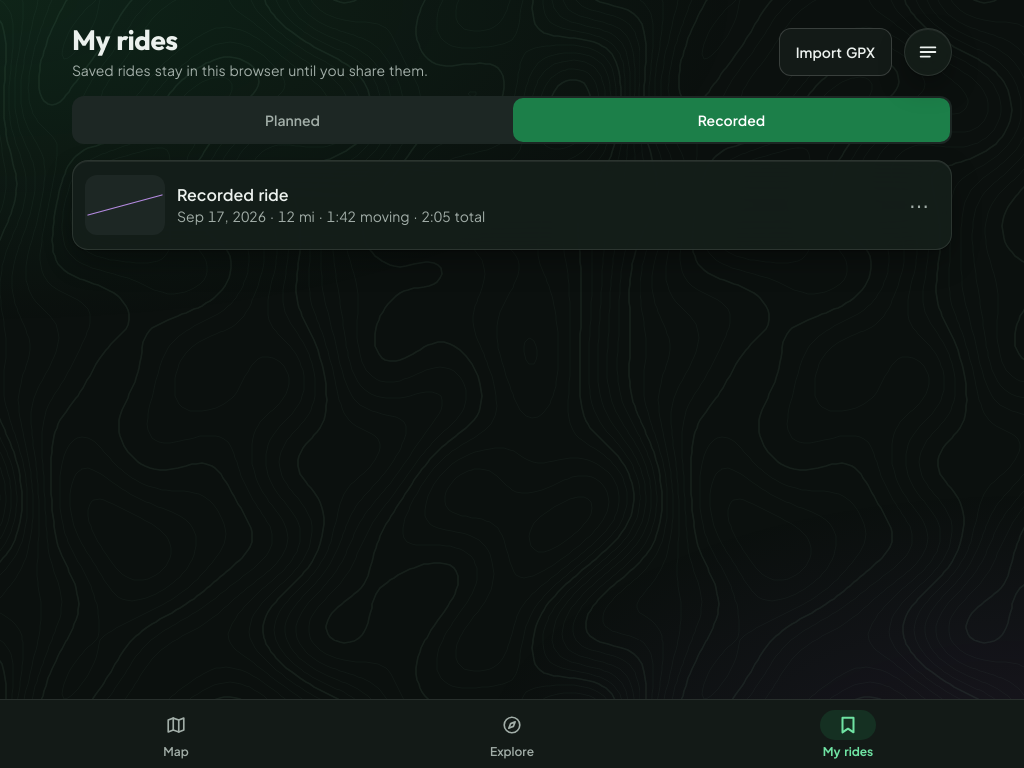
Test: RidesLibrary › shows the saved recorded line, duration summary, and GPX export
Expected: the picture named "Recorded track preview for Recorded ride" is shown, [85,176,165,236]
Expected: the text with test id "recorded-ride-summary" shows "12 mi · 1:42 moving · 2:05 total", [177,207,485,225]
Click the button named "More actions for Recorded ride" at (919, 206), box [895,182,943,230]
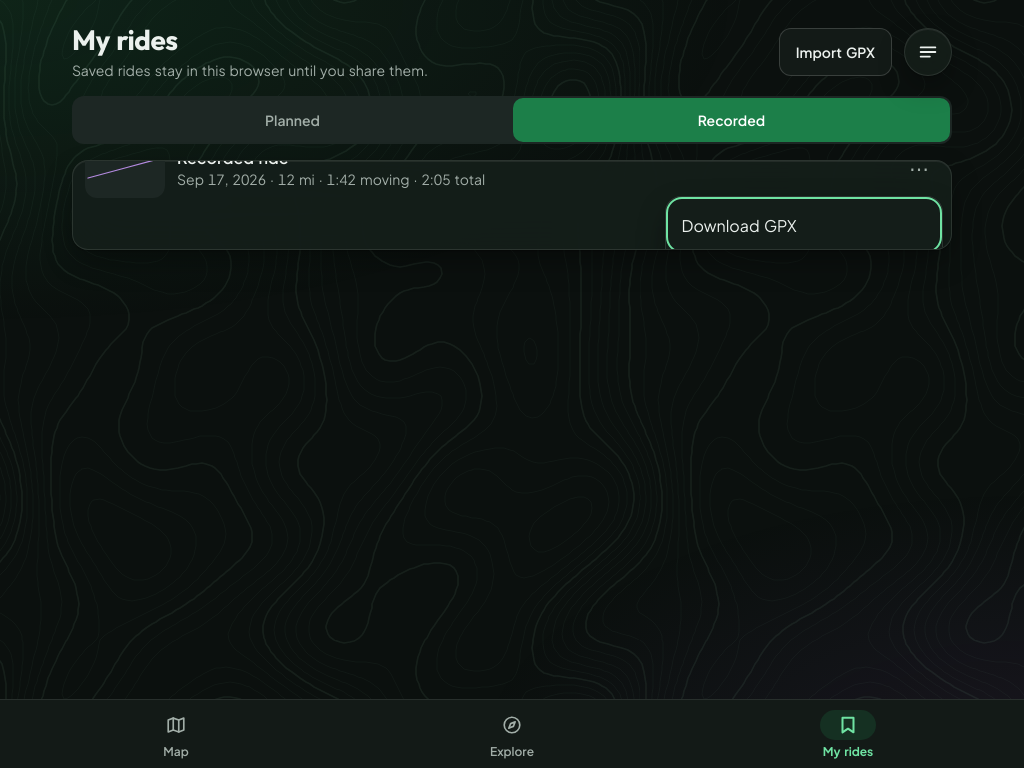
Result: the menu item "Download GPX" is enabled at [670,202,938,250]
